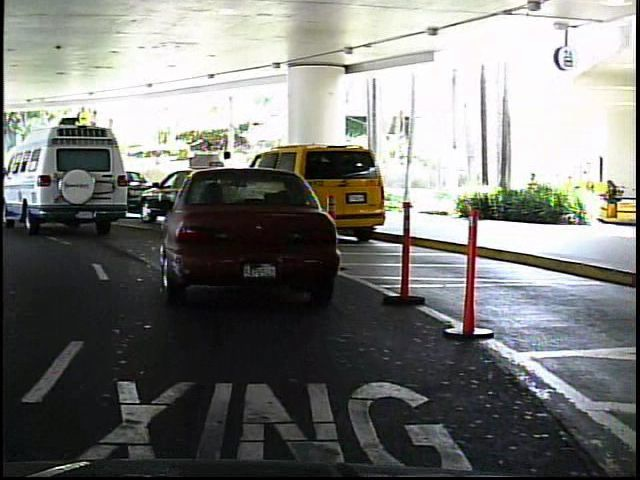person: (217, 147, 243, 213), (53, 156, 75, 199), (4, 157, 21, 198)
